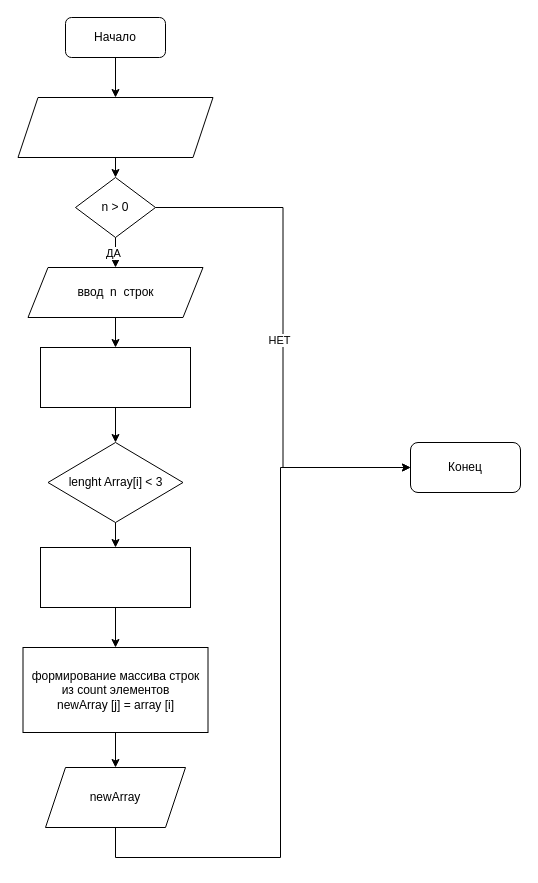
The diagram is 538 pixels wide and 883 high, and some of its shapes have lost their labels. The centre of each missing label's shape, as x and y in pixels:
ввод количества элементов массива n: point 115,127
подсчет количества элементов массива count с length < 3: point 115,577
формирование массива строк из n элементов string Array [n]: point 115,377
